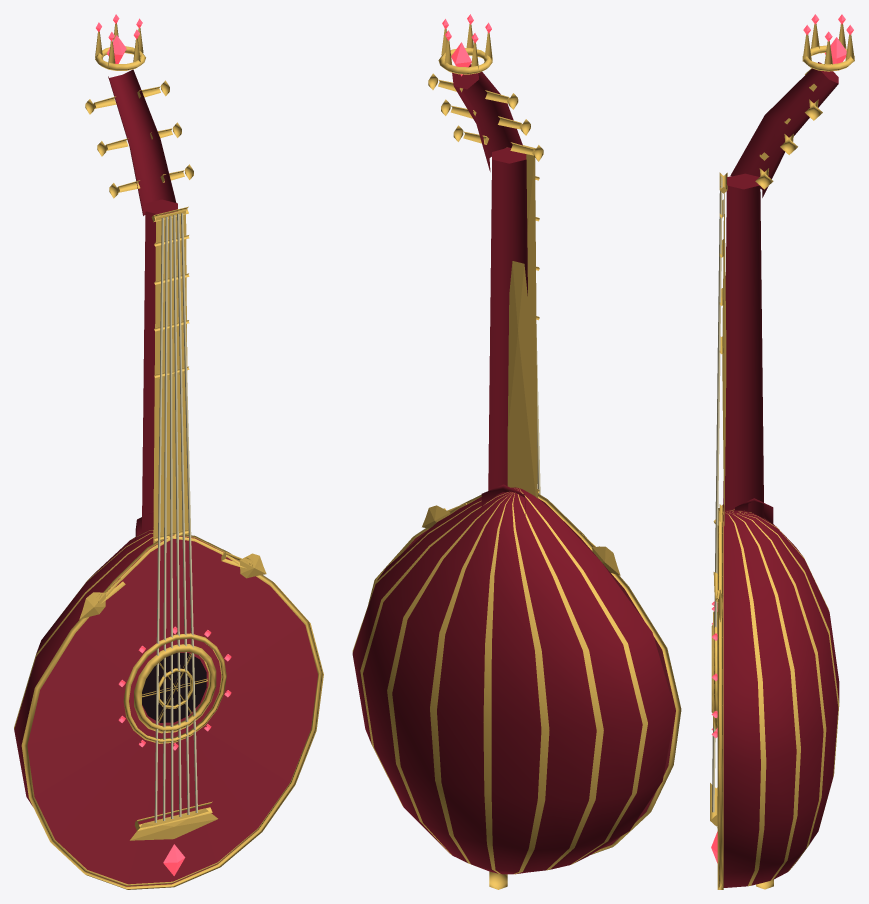
Rendered from lute_3.glb.
3 renders of one model, left to right at view 1: azimuth 30°, elevation 25°; view 2: azimuth 150°, elevation 25°; view 3: azimuth 270°, elevation 25°, orthographic. The views are drawn at different scales.
Parts seen in each view (by area): view 1: lute_3; view 2: lute_3; view 3: lute_3.
Boxes of the visible parts, x1,y1,x2,y2 form: lute_3: [14, 14, 323, 889]; lute_3: [352, 14, 681, 889]; lute_3: [710, 14, 854, 889].
Bounding box in the file's own units: 0.2692 × 0.7205 × 0.1091.
